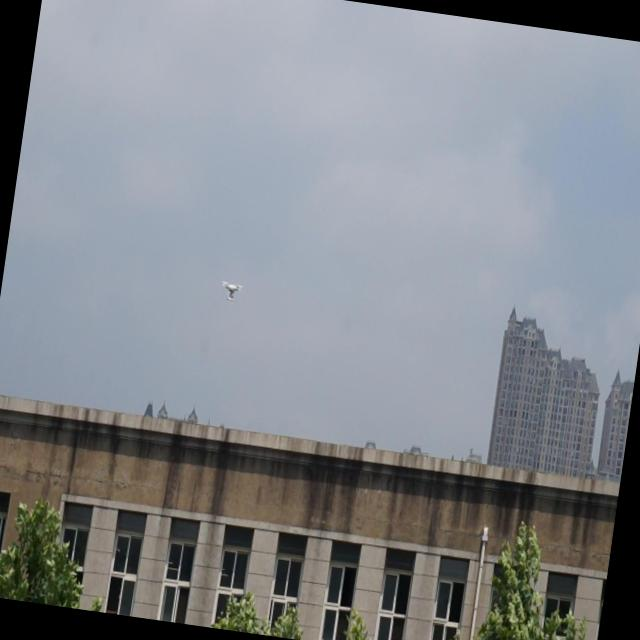drone: (218, 277, 244, 307)
